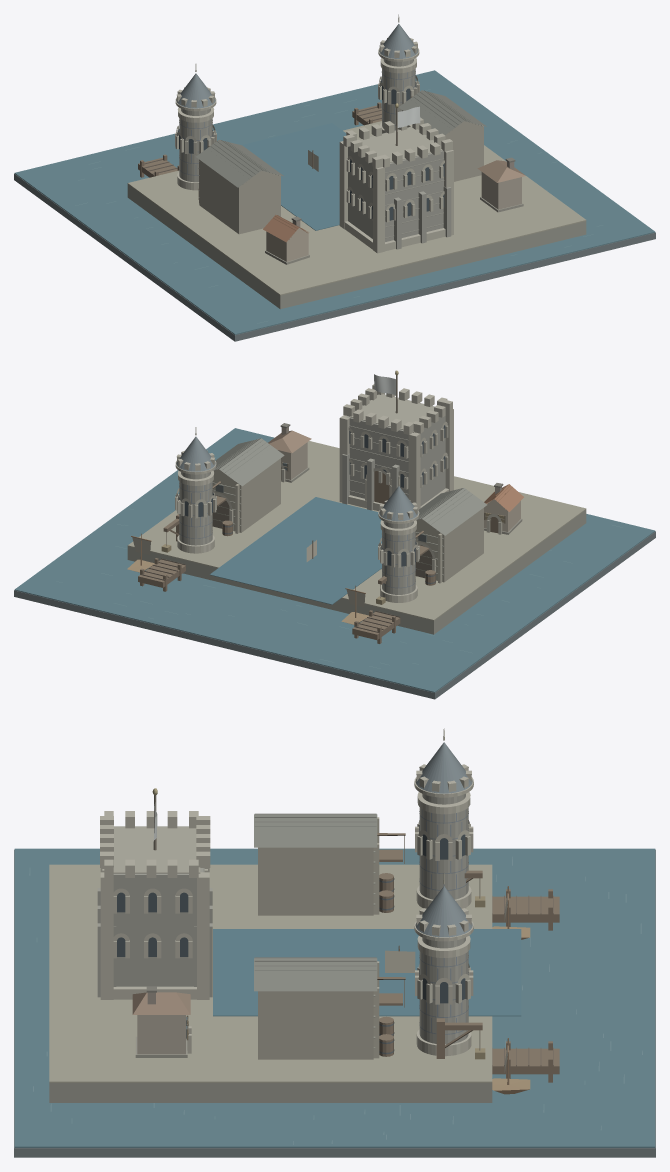
File: harbor-2.glb
3 views of the same model, one above another, from view 1: azimuth 30°, elevation 25°; view 2: azimuth 150°, elevation 25°; view 3: azimuth 270°, elevation 25° (orthographic). The views are drawn at different scales.
Visible parts, largest first — view 1: بندر دو اسکله; view 2: بندر دو اسکله; view 3: بندر دو اسکله.
Boxes of the visible parts, x1,y1,x2,y2 form: بندر دو اسکله: [14, 14, 655, 341]; بندر دو اسکله: [14, 370, 655, 699]; بندر دو اسکله: [14, 728, 655, 1157].
Bounding box in the file's own units: 11 × 3.79 × 10.
